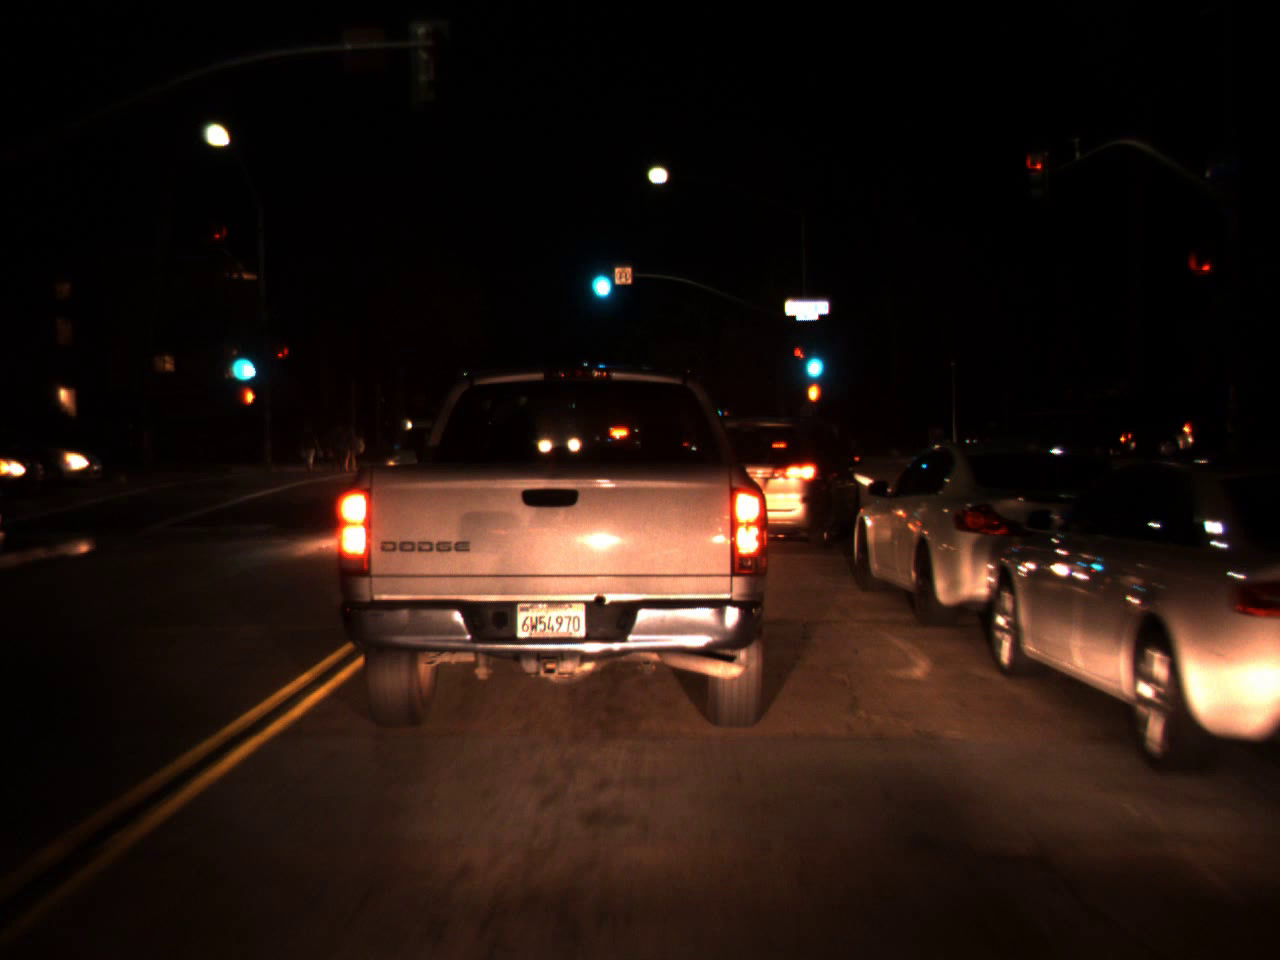go: (224, 330, 258, 390), (584, 248, 614, 305), (799, 333, 826, 384)
